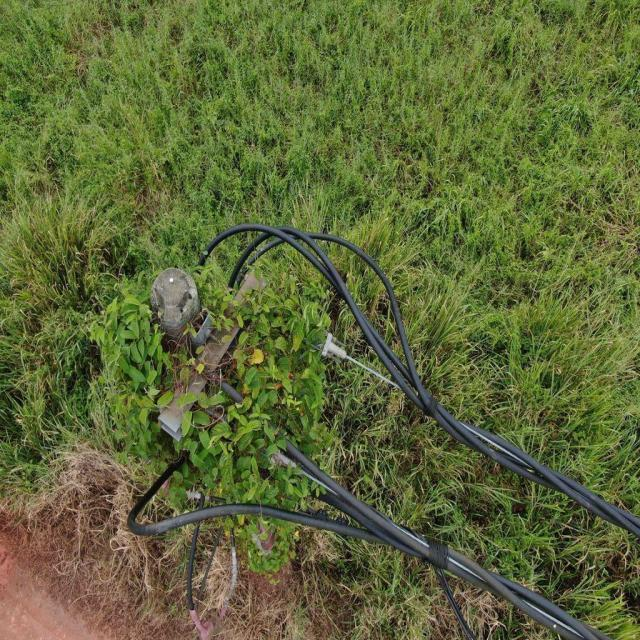critical vegetation: (90, 250, 341, 580)
